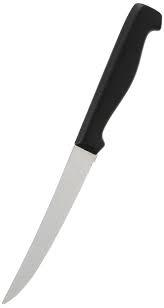Knife: (1, 2, 162, 303)
